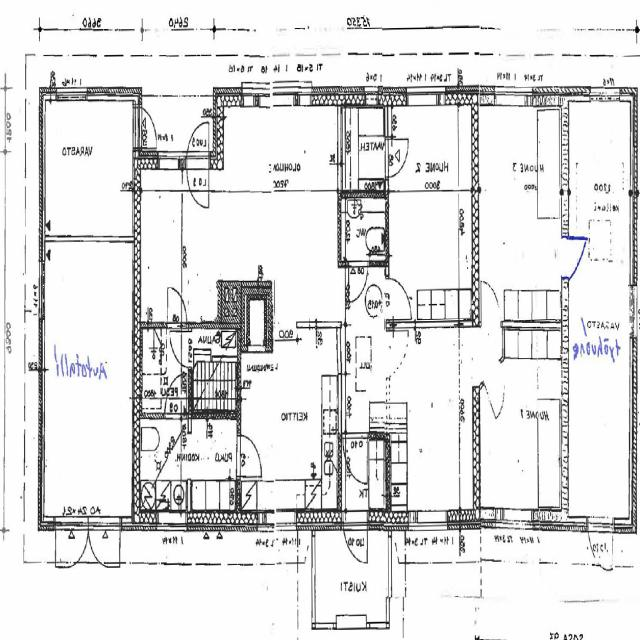door: (55, 516, 88, 590), (88, 516, 120, 590), (482, 359, 513, 416), (343, 511, 367, 575), (588, 516, 613, 576), (187, 110, 209, 170), (132, 107, 164, 148), (343, 432, 368, 484), (562, 236, 592, 279), (187, 152, 209, 210), (386, 278, 412, 319), (385, 140, 410, 177), (165, 374, 186, 418), (481, 284, 501, 328), (169, 331, 192, 367), (349, 260, 368, 302)
